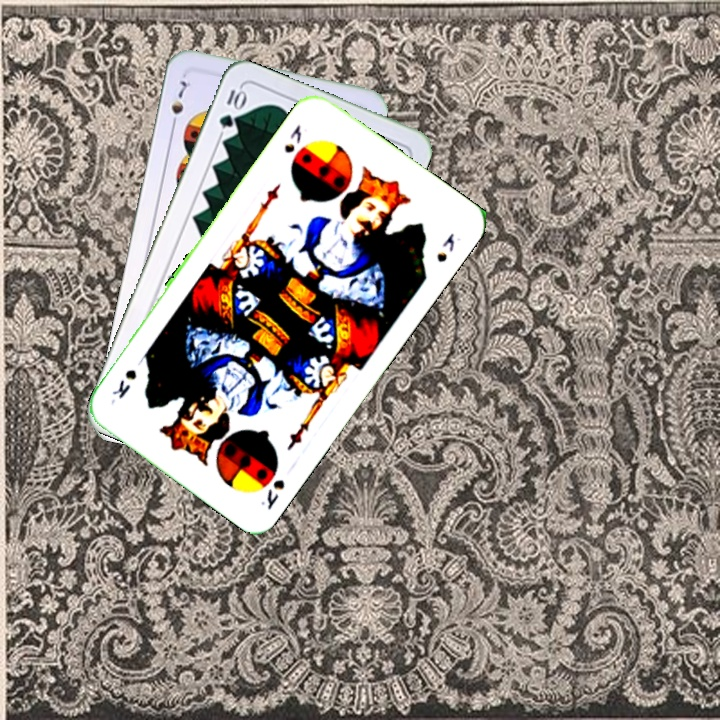G10: (215, 84, 248, 131)
S7: (167, 77, 193, 132)
SK: (256, 475, 288, 513), (280, 120, 305, 156)
